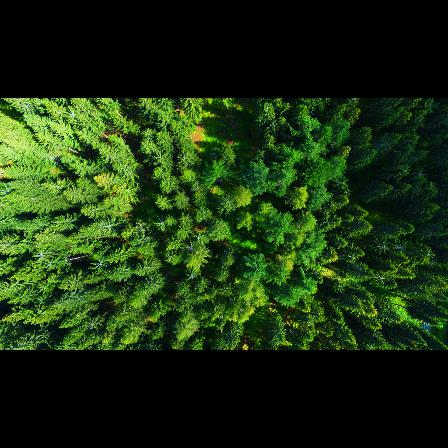Sick: (373, 270, 387, 287), (395, 240, 410, 255)
